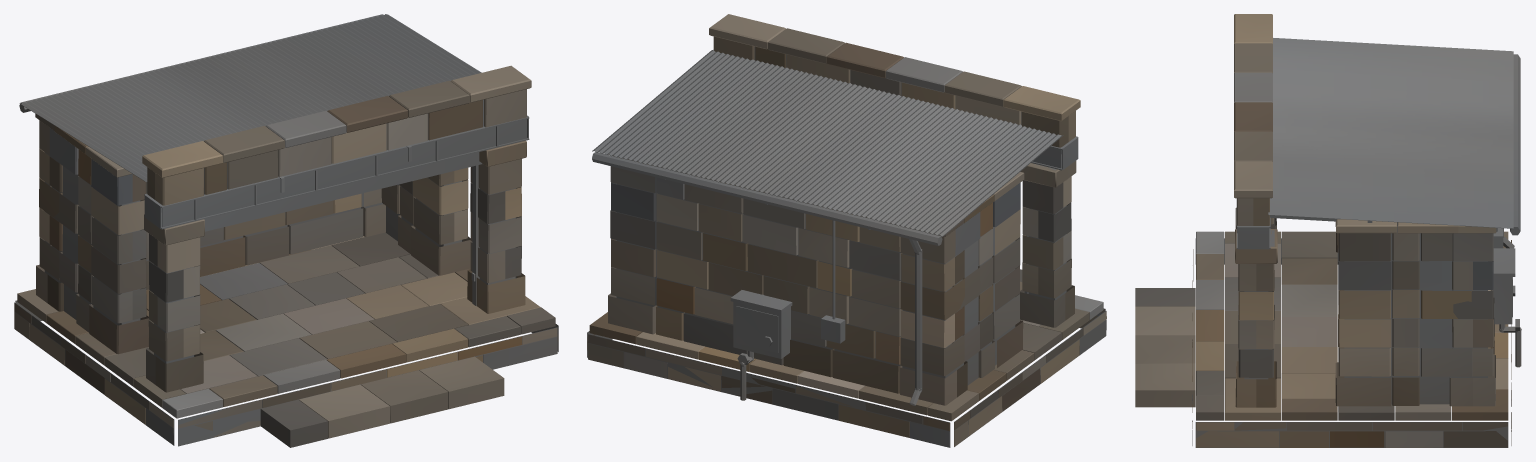
Rendered from BasicGeneral_LOD1.glb.
3 renders of one model, left to right at view 1: azimuth 30°, elevation 25°; view 2: azimuth 150°, elevation 25°; view 3: azimuth 270°, elevation 25°, orthographic. The views are drawn at different scales.
Visible parts, largest first — view 1: BasicGeneral_Porch_LOD1, BasicGeneral_Masonry_LOD1, BasicGeneral_Roof_LOD1, BasicGeneral_Metal_LOD1, BasicGeneral_Trim_LOD1; view 2: BasicGeneral_Masonry_LOD1, BasicGeneral_Roof_LOD1, BasicGeneral_Porch_LOD1, BasicGeneral_Trim_LOD1, BasicGeneral_Metal_LOD1; view 3: BasicGeneral_Roof_LOD1, BasicGeneral_Porch_LOD1, BasicGeneral_Masonry_LOD1, BasicGeneral_Trim_LOD1, BasicGeneral_Metal_LOD1.
Part boxes in pixels (x1,y1,x2,y2): BasicGeneral_Porch_LOD1: (14,232,558,447); BasicGeneral_Masonry_LOD1: (36,89,526,392); BasicGeneral_Roof_LOD1: (19,14,481,181); BasicGeneral_Metal_LOD1: (19,14,529,306); BasicGeneral_Trim_LOD1: (35,65,531,245); BasicGeneral_Masonry_LOD1: (608,36,1075,405); BasicGeneral_Roof_LOD1: (592,50,1063,236); BasicGeneral_Porch_LOD1: (587,269,1106,447); BasicGeneral_Trim_LOD1: (608,14,1080,236); BasicGeneral_Metal_LOD1: (592,136,1078,405); BasicGeneral_Roof_LOD1: (1268,38,1513,228); BasicGeneral_Porch_LOD1: (1135,231,1511,447); BasicGeneral_Masonry_LOD1: (1235,198,1495,407); BasicGeneral_Trim_LOD1: (1234,14,1496,263); BasicGeneral_Metal_LOD1: (1236,54,1521,367).
Size of the model in its own units: 5.75 by 3.71 by 5.11.
